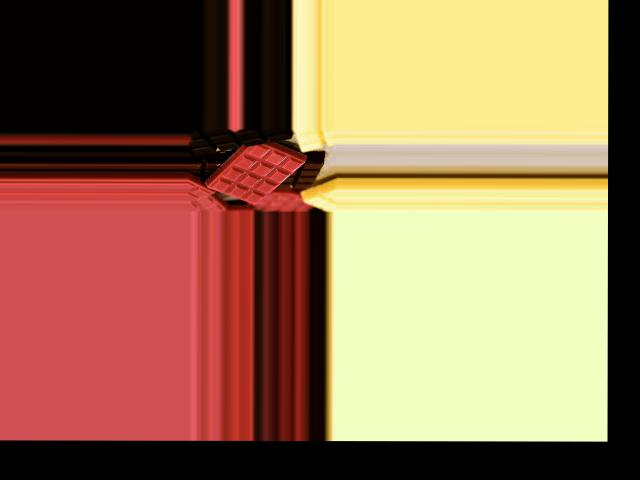chocolate: (204, 127, 304, 207)
